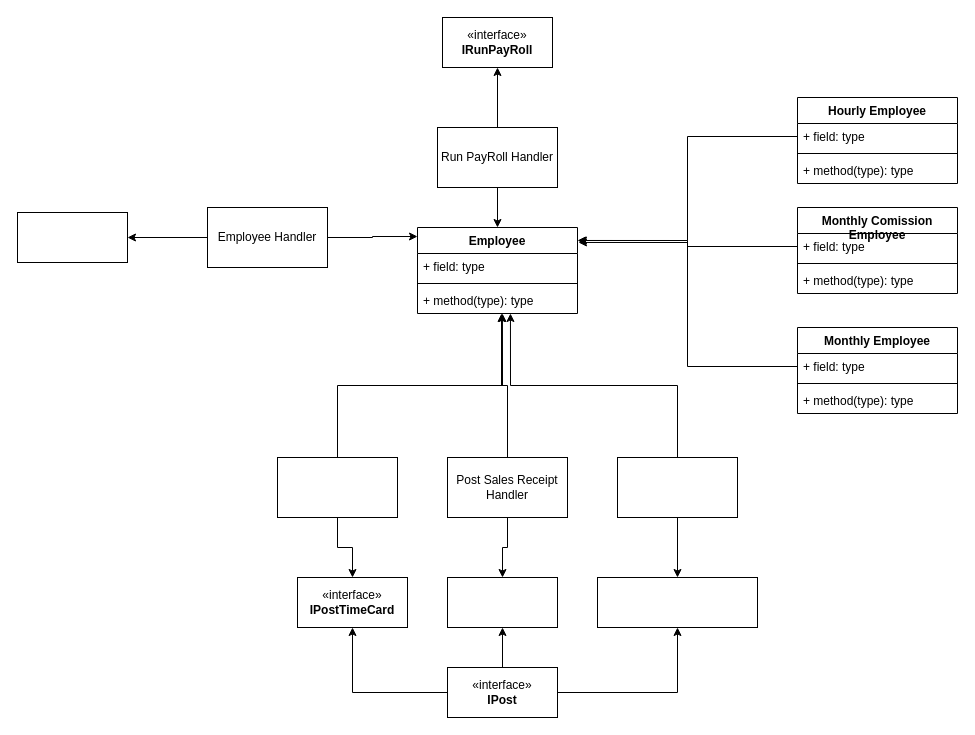
Some shapes in this 975 by 735 pixel diagram are drawn without their labels. Each missing label, with the centre of its shape:
Post Time Card Handler: point (337, 487)
Post Union Service Charge Handler: point (677, 487)
«interface» IEmployee: point (72, 237)
«interface» IPostSalesReceipt: point (502, 602)
«interface» IPostUnionServiceCharge: point (677, 602)
